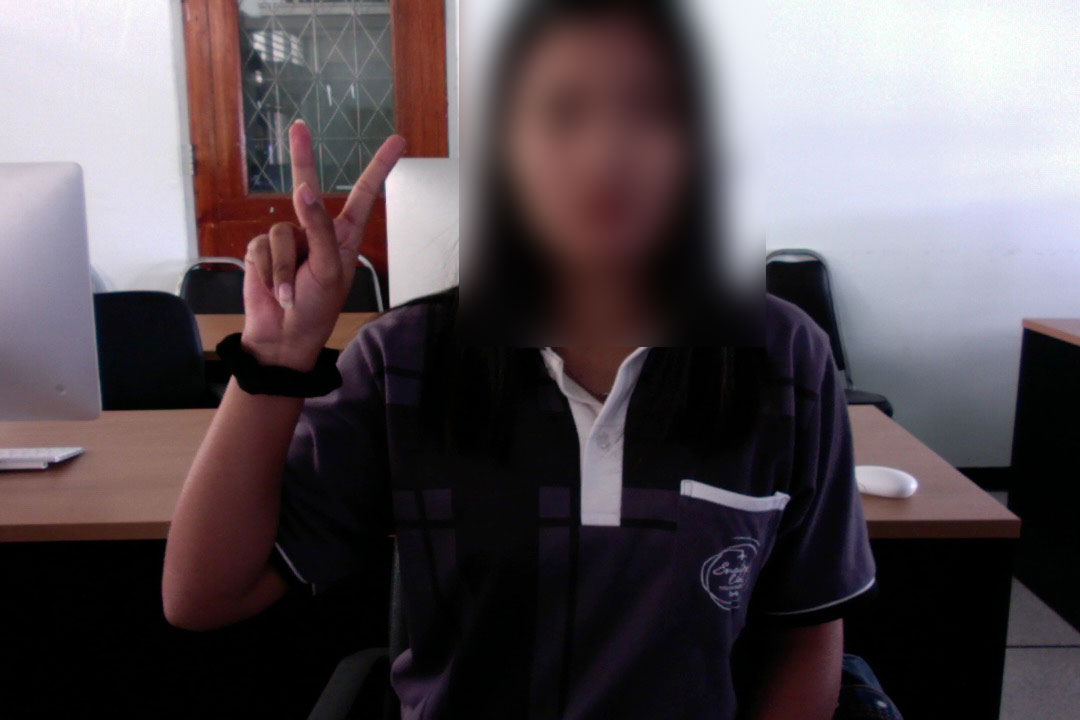ko: (218, 111, 412, 361)
